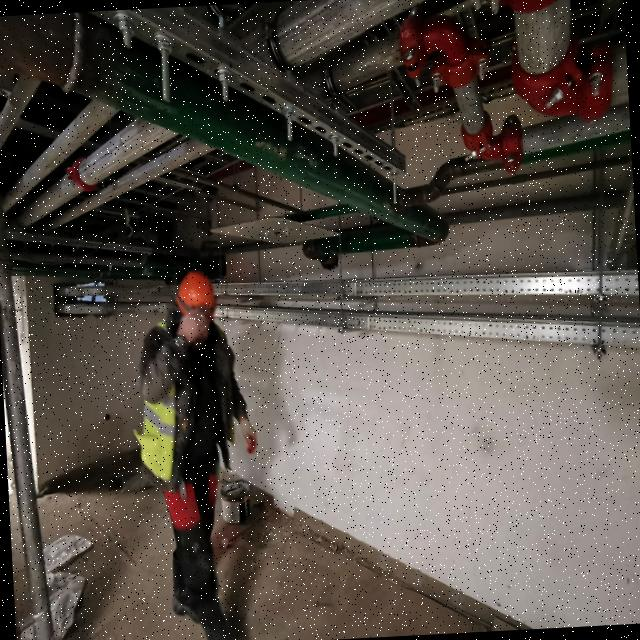NoHelmet: (174, 273, 221, 347)
